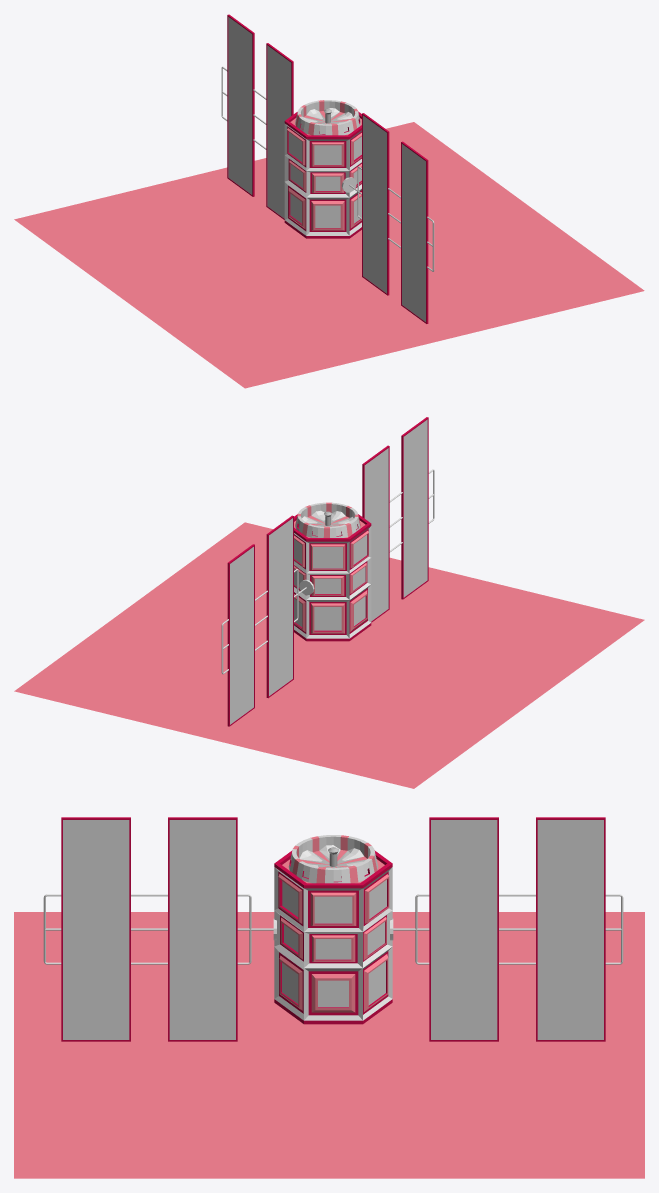
The model's file is satellite_1_1_pink.fbx.
The picture shows the model from 3 angles, top to bottom: view 1: azimuth 30°, elevation 25°; view 2: azimuth 150°, elevation 25°; view 3: azimuth 270°, elevation 25°; orthographic projection. The views are drawn at different scales.
Visible parts, largest first — view 1: Plane, pCube7, Cylinder.020, Cylinder.021; view 2: Plane, pCube7, Cylinder.020, Cylinder.021; view 3: Plane, pCube7, Cylinder.020, Cylinder.021.
Boxes of the visible parts, bbox=[...] form: Plane: bbox=[14, 122, 644, 388]; pCube7: bbox=[221, 14, 434, 323]; Cylinder.020: bbox=[284, 111, 361, 238]; Cylinder.021: bbox=[295, 100, 360, 135]; Plane: bbox=[14, 522, 644, 788]; pCube7: bbox=[221, 417, 434, 726]; Cylinder.020: bbox=[294, 514, 371, 641]; Cylinder.021: bbox=[295, 502, 360, 537]; Plane: bbox=[14, 912, 644, 1178]; pCube7: bbox=[43, 817, 623, 1041]; Cylinder.020: bbox=[274, 850, 392, 1024]; Cylinder.021: bbox=[288, 835, 378, 883].
Size of the model in its own units: 1000 by 398 by 1000.
